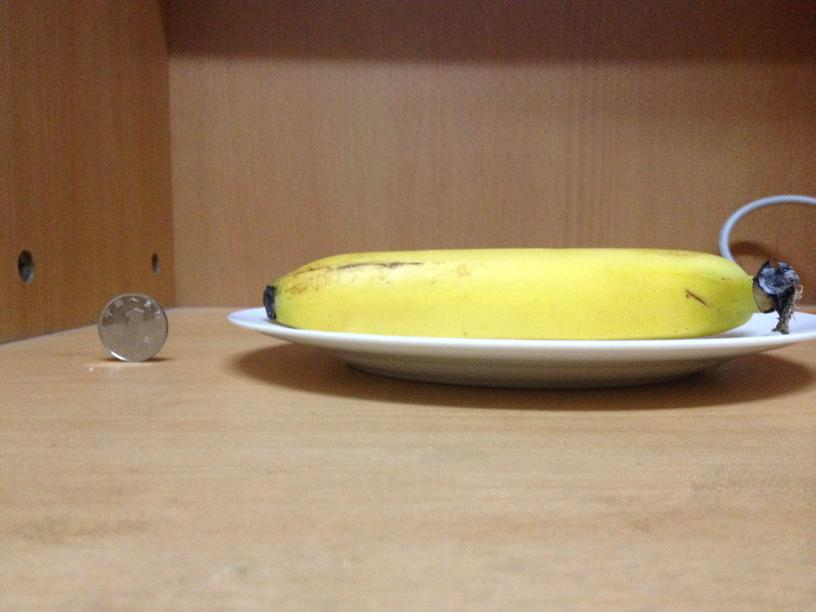banana: (266, 242, 757, 339)
coin: (95, 290, 170, 361)
